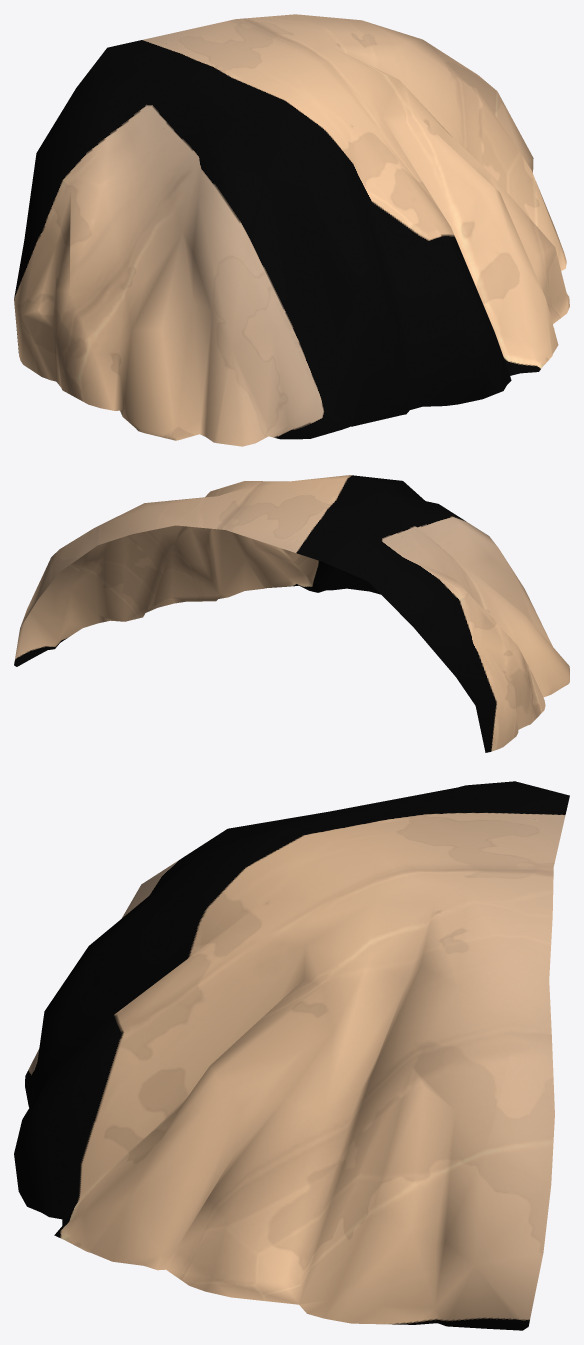
File: Slope_3.fbx
3 views of the same model, one above another, from view 1: azimuth 30°, elevation 25°; view 2: azimuth 150°, elevation 25°; view 3: azimuth 270°, elevation 25° (orthographic). The views are drawn at different scales.
Visible parts, largest first — view 1: Slope_3_LOD0; view 2: Slope_3_LOD0; view 3: Slope_3_LOD0.
Boxes of the visible parts, x1,y1,x2,y2 form: Slope_3_LOD0: (14,14,569,446); Slope_3_LOD0: (14,475,569,752); Slope_3_LOD0: (14,781,569,1330).
Size of what is drawn, in the model's own units: 210 by 89.63 by 145.
